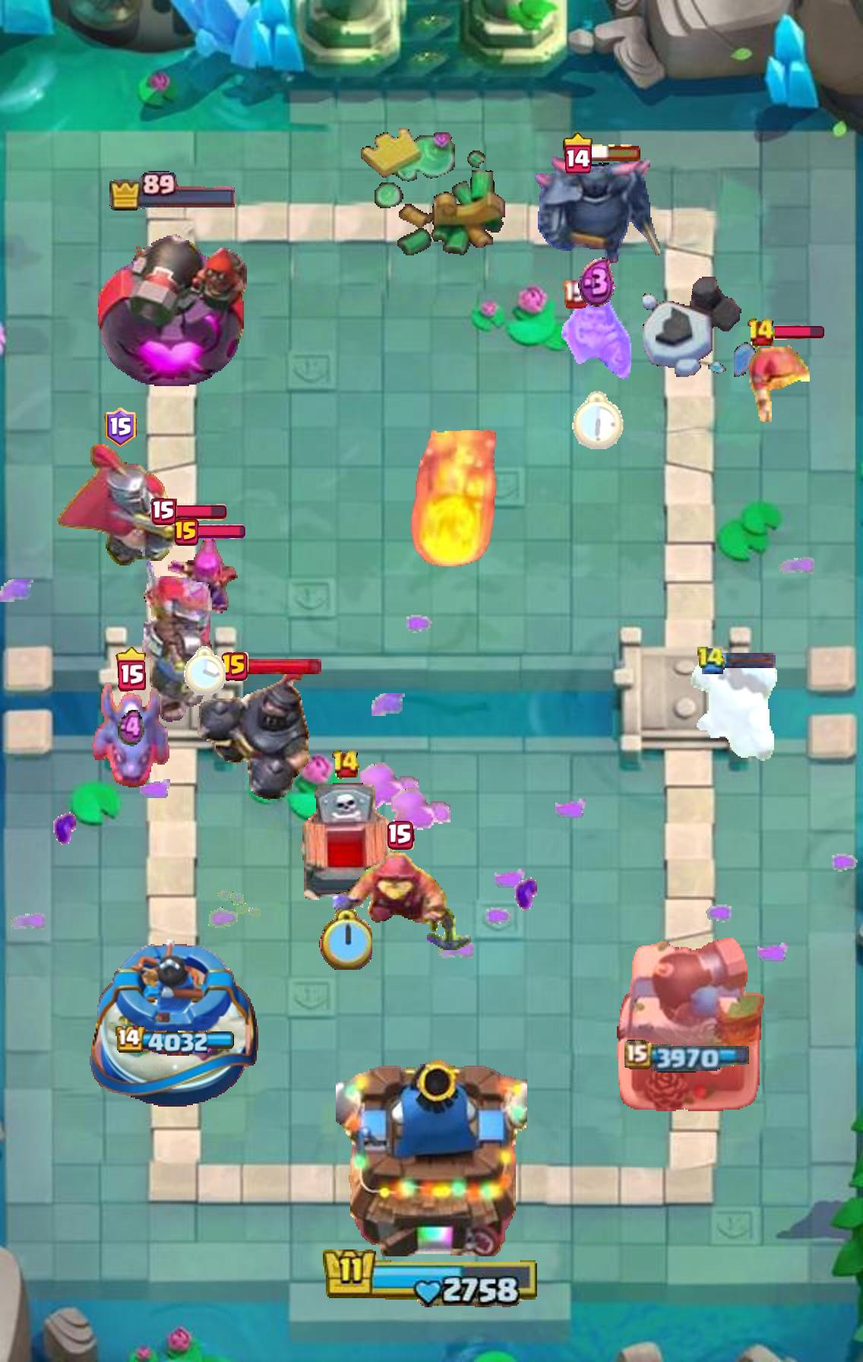elixir: (578, 257, 616, 308), (117, 708, 144, 748)
ice-golem: (687, 655, 784, 765)
